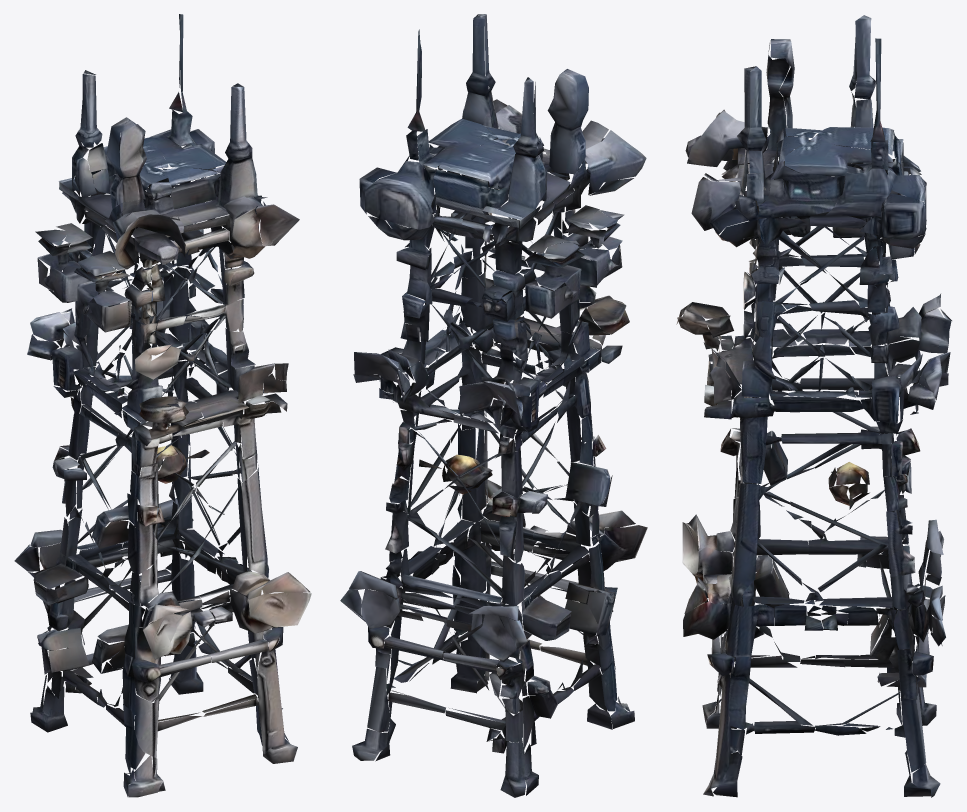
File: antenna_pylon.glb
3 renders of one model, left to right at view 1: azimuth 30°, elevation 25°; view 2: azimuth 150°, elevation 25°; view 3: azimuth 270°, elevation 25°, orthographic. The views are drawn at different scales.
Visible parts, largest first — view 1: tripo_node_e9a5932a-bd4f-487d-9be2-814fcce9c6c6; view 2: tripo_node_e9a5932a-bd4f-487d-9be2-814fcce9c6c6; view 3: tripo_node_e9a5932a-bd4f-487d-9be2-814fcce9c6c6.
Part boxes in pixels (left/top/right/bottom): tripo_node_e9a5932a-bd4f-487d-9be2-814fcce9c6c6: left=14, top=14, right=311, bottom=797; tripo_node_e9a5932a-bd4f-487d-9be2-814fcce9c6c6: left=340, top=14, right=647, bottom=797; tripo_node_e9a5932a-bd4f-487d-9be2-814fcce9c6c6: left=676, top=15, right=951, bottom=797.
Size of the model in its own units: 0.2873 by 1 by 0.3377.
1 material, 1 textured.
